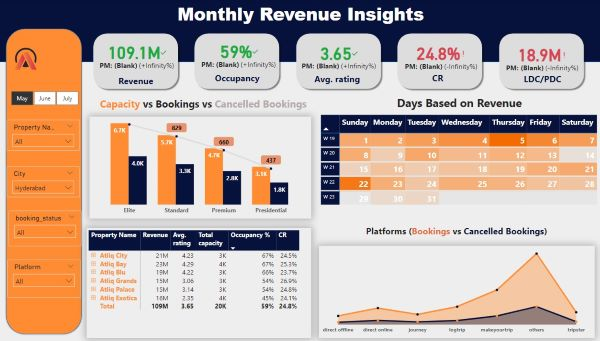

The dashboard page shown, as its layout file describes it:
{"tool":"powerbi","page":{"name":"monthly_dashboard","canvas":[1280,760],"ordinal":1},"visuals":[{"type":"group","id":"g1","title":"visuals","box":[0,0,1280,760.7],"z":0},{"type":"textbox","box":[0,727.8,1063.8,32.8],"z":0,"group":"g1"},{"type":"shape","box":[0,0,1280,134.4],"z":1000,"group":"g1"},{"type":"shape","box":[840.8,65.9,194.5,131.9],"z":2000,"group":"g1"},{"type":"shape","box":[624.8,65.9,194.5,131.9],"z":3000,"group":"g1"},{"type":"textbox","box":[679.4,476.2,586.9,50],"z":3000},{"type":"shape","box":[192.9,65.9,194.5,131.9],"z":4000,"group":"g1"},{"type":"textbox","box":[198.7,203.2,471.7,47],"z":4000},{"type":"shape","box":[408.9,65.9,194.5,131.9],"z":5000,"group":"g1"},{"type":"shape","box":[11.5,59.3,168.2,657.8],"z":6000,"group":"g1"},{"type":"shape","box":[1056.7,65.9,194.5,131.9],"z":7000,"group":"g1"},{"type":"pivotTable","fields":{"Rows":["dim_date.week no"],"Values":["Sum(dim_date.DAY)"],"Columns":["Week_day.Weekday"]},"box":[679.2,242.3,598.4,245.6],"z":8000,"group":"g1"},{"type":"slicer","fields":{"Values":["dim_date.mmm yy.Variation.Date Hierarchy.Month"]},"box":[0,189.6,192.9,42.9],"z":9000,"group":"g1"},{"type":"kpi","title":"Revenue","fields":{"Indicator":["resource_measures.revenue"],"TrendLine":["dim_date.date.Variation.Date Hierarchy.Month"],"Goal":["resource_measures.revenue LM"]},"box":[204.4,92.3,176.4,62.6],"z":10000,"group":"g1"},{"type":"kpi","fields":{"Indicator":["resource_measures.Occupancy %"],"TrendLine":["dim_date.date.Variation.Date Hierarchy.Month"],"Goal":["resource_measures.Occupancy % LM"]},"box":[423.7,89,171.5,65.9],"z":11000,"group":"g1"},{"type":"kpi","fields":{"Goal":["resource_measures.cancellation rate LM"],"TrendLine":["dim_date.date.Variation.Date Hierarchy.Month"],"Indicator":["resource_measures.CR"]},"box":[852.3,90.7,174.8,72.5],"z":12000,"group":"g1"},{"type":"kpi","fields":{"Indicator":["resource_measures.LDC"],"Goal":["resource_measures.LDC LM"],"TrendLine":["dim_date.date.Variation.Date Hierarchy.Month"]},"box":[1068.3,89,174.8,80.8],"z":13000,"group":"g1"},{"type":"kpi","title":"Avg. rating ","fields":{"Indicator":["resource_measures.Avg. rating"],"TrendLine":["dim_date.date.Variation.Date Hierarchy.Month"],"Goal":["resource_measures.avg.rating LM"]},"box":[631.4,92.3,183,65.9],"z":14000,"group":"g1"},{"type":"textbox","box":[1083.1,153.3,145.1,46.2],"z":15000,"group":"g1"},{"type":"textbox","box":[860.6,150,145.1,44.5],"z":16000,"group":"g1"},{"type":"textbox","box":[646.2,153.3,145.1,44.5],"z":17000,"group":"g1"},{"type":"textbox","box":[433.6,150,145.1,44.5],"z":18000,"group":"g1"},{"type":"textbox","box":[217.6,156.6,146.7,37.9],"z":19000,"group":"g1"},{"type":"textbox","box":[1.9,0,1278.1,65.6],"z":20000,"group":"g1"},{"type":"slicer","fields":{"Values":["dim_hotels.property_name"]},"box":[16.5,257.2,155,65.9],"z":22000,"group":"g1"},{"type":"slicer","fields":{"Values":["dim_hotels.city"]},"box":[16.5,356.1,155,65.9],"z":23000,"group":"g1"},{"type":"slicer","fields":{"Values":["fact_bookings.booking_status"]},"box":[19.8,450.1,155,75.8],"z":24000,"group":"g1"},{"type":"slicer","fields":{"Values":["fact_bookings.booking_platform"]},"box":[18.1,555.6,155,80.8],"z":25000,"group":"g1"},{"type":"image","title":"atliq","box":[15.1,90.4,77.6,73.8],"z":26000,"group":"g1"},{"type":"lineClusteredColumnComboChart","title":"Capacity vs Bookings vs Cancelled Bookings","fields":{"Category":["dim_rooms.room_class"],"Y":["resource_measures.Total capacity","resource_measures.Total sucessful bookings"],"Y2":["resource_measures.Total cancelled bookings"]},"box":[192.6,250.2,471.7,216.9],"z":28000,"group":"g1"},{"type":"areaChart","fields":{"Category":["fact_bookings.booking_platform"],"Y":["resource_measures.Total bookings","resource_measures.Total cancelled bookings"]},"box":[679.4,526.3,586.9,195.6],"z":29000,"group":"g1"},{"type":"pivotTable","fields":{"Rows":["dim_hotels.property_name","dim_hotels.city"],"Values":["resource_measures.revenue","resource_measures.Avg. rating","resource_measures.Total capacity","resource_measures.Occupancy %","resource_measures.CR"]},"box":[186.3,488,478.1,234.1],"z":30000,"group":"g1"},{"type":"textbox","box":[679.2,199.5,598.4,49.5],"z":31000,"group":"g1"}]}

Visuals, with their boxes on the page's 1280x760 design canvas (x1, y1, x2, y2). These are canvas units, not pixel positions in the 600x341 screenshot, which may show the page scaled, cropped or inside an application window:
"visuals" group: crop(0, 0, 1280, 761)
textbox: crop(0, 728, 1064, 761)
shape: crop(0, 0, 1280, 134)
shape: crop(841, 66, 1035, 198)
shape: crop(625, 66, 819, 198)
textbox: crop(679, 476, 1266, 526)
shape: crop(193, 66, 387, 198)
textbox: crop(199, 203, 670, 250)
shape: crop(409, 66, 603, 198)
shape: crop(12, 59, 180, 717)
shape: crop(1057, 66, 1251, 198)
pivotTable - dim_date.week no x Sum(dim_date.DAY): crop(679, 242, 1278, 488)
slicer - dim_date.mmm yy.Variation.Date Hierarchy.Month: crop(0, 190, 193, 232)
"Revenue" kpi: crop(204, 92, 381, 155)
kpi - resource_measures.Occupancy % x dim_date.date.Variation.Date Hierarchy.Month: crop(424, 89, 595, 155)
kpi - resource_measures.cancellation rate LM x dim_date.date.Variation.Date Hierarchy.Month: crop(852, 91, 1027, 163)
kpi - resource_measures.LDC x resource_measures.LDC LM: crop(1068, 89, 1243, 170)
"Avg. rating " kpi: crop(631, 92, 814, 158)
textbox: crop(1083, 153, 1228, 200)
textbox: crop(861, 150, 1006, 194)
textbox: crop(646, 153, 791, 198)
textbox: crop(434, 150, 579, 194)
textbox: crop(218, 157, 364, 194)
textbox: crop(2, 0, 1280, 66)
slicer - dim_hotels.property_name: crop(16, 257, 172, 323)
slicer - dim_hotels.city: crop(16, 356, 172, 422)
slicer - fact_bookings.booking_status: crop(20, 450, 175, 526)
slicer - fact_bookings.booking_platform: crop(18, 556, 173, 636)
"atliq" image: crop(15, 90, 93, 164)
"Capacity vs Bookings vs Cancelled Bookings" lineClusteredColumnComboChart: crop(193, 250, 664, 467)
areaChart - fact_bookings.booking_platform x resource_measures.Total bookings: crop(679, 526, 1266, 722)
pivotTable - dim_hotels.property_name x dim_hotels.city: crop(186, 488, 664, 722)
textbox: crop(679, 200, 1278, 249)
